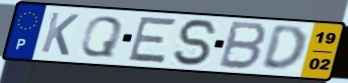B: (216, 20, 271, 72)
D: (259, 24, 308, 73)
E: (125, 15, 180, 65)
K: (38, 10, 82, 58)
Q: (77, 15, 126, 59)
S: (172, 17, 221, 68)
